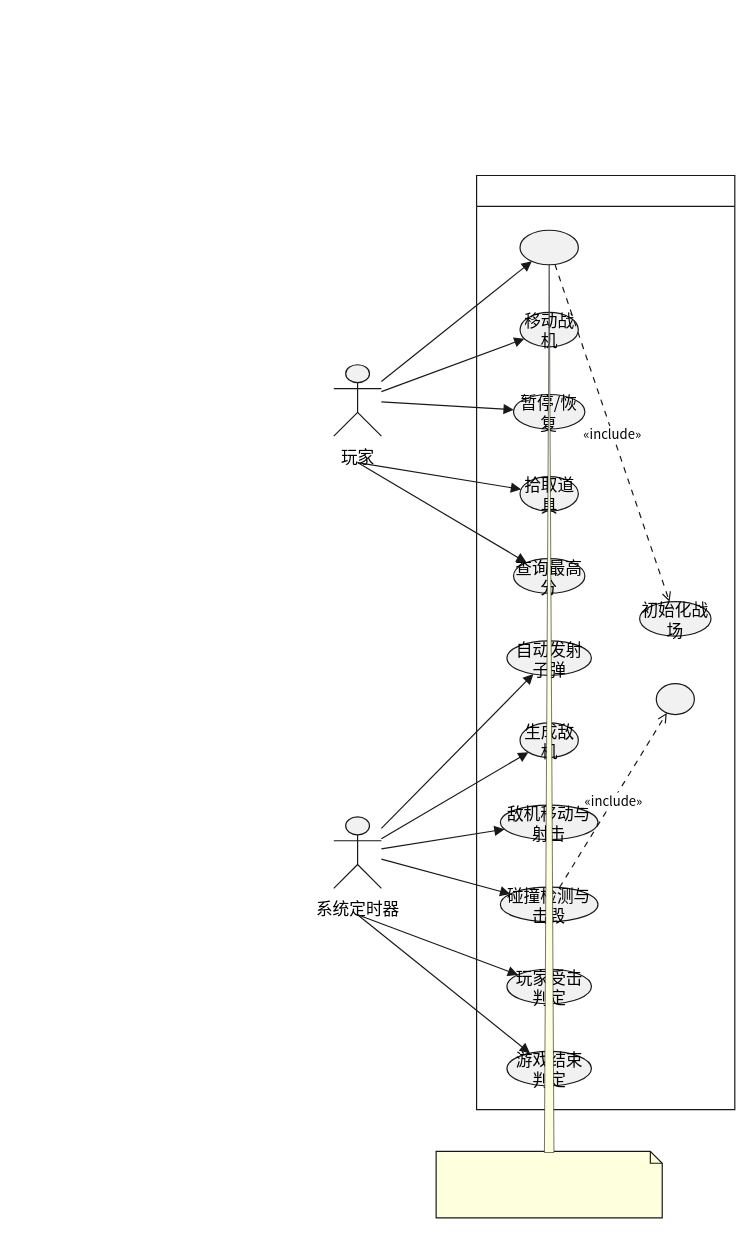
Some shapes in this 756 by 1244 pixel diagram are drawn without their labels. Here are the shapes that lost their labels. From the top down, the box of each, then its label:
(519, 229, 578, 265): 开始游戏
(475, 174, 735, 1110): 飞机大战（单人单机版）
(655, 682, 694, 715): 计分
(435, 1150, 662, 1218): P0 覆盖： 能开始(UC1) → 能进行(UC2~UC7) → 能结束(UC9)
